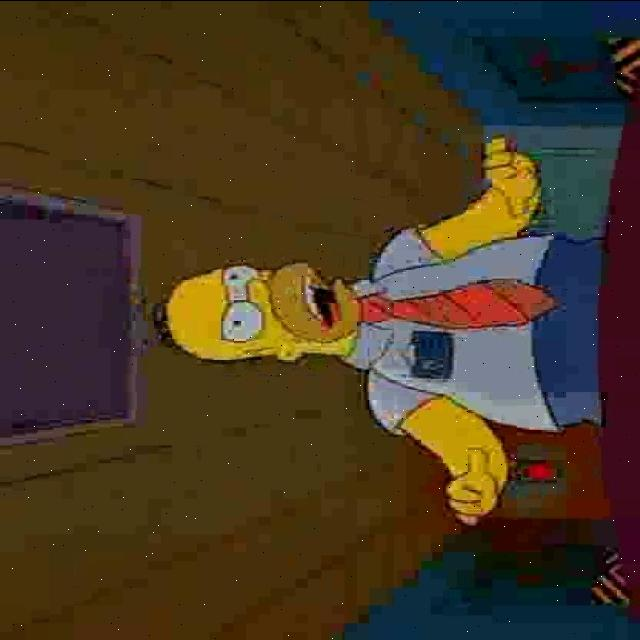Homer Simpson: (152, 256, 368, 364)
